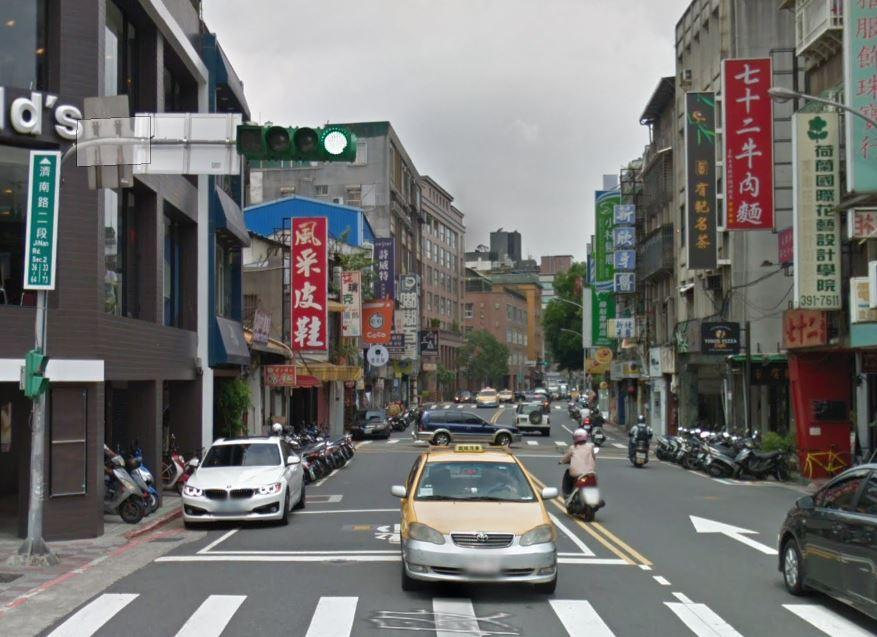car: (398, 438, 556, 587), (774, 454, 877, 634), (175, 433, 305, 528), (412, 407, 516, 448)
green_traffic_light: (234, 117, 359, 169)
motorcycle: (555, 444, 607, 520)
